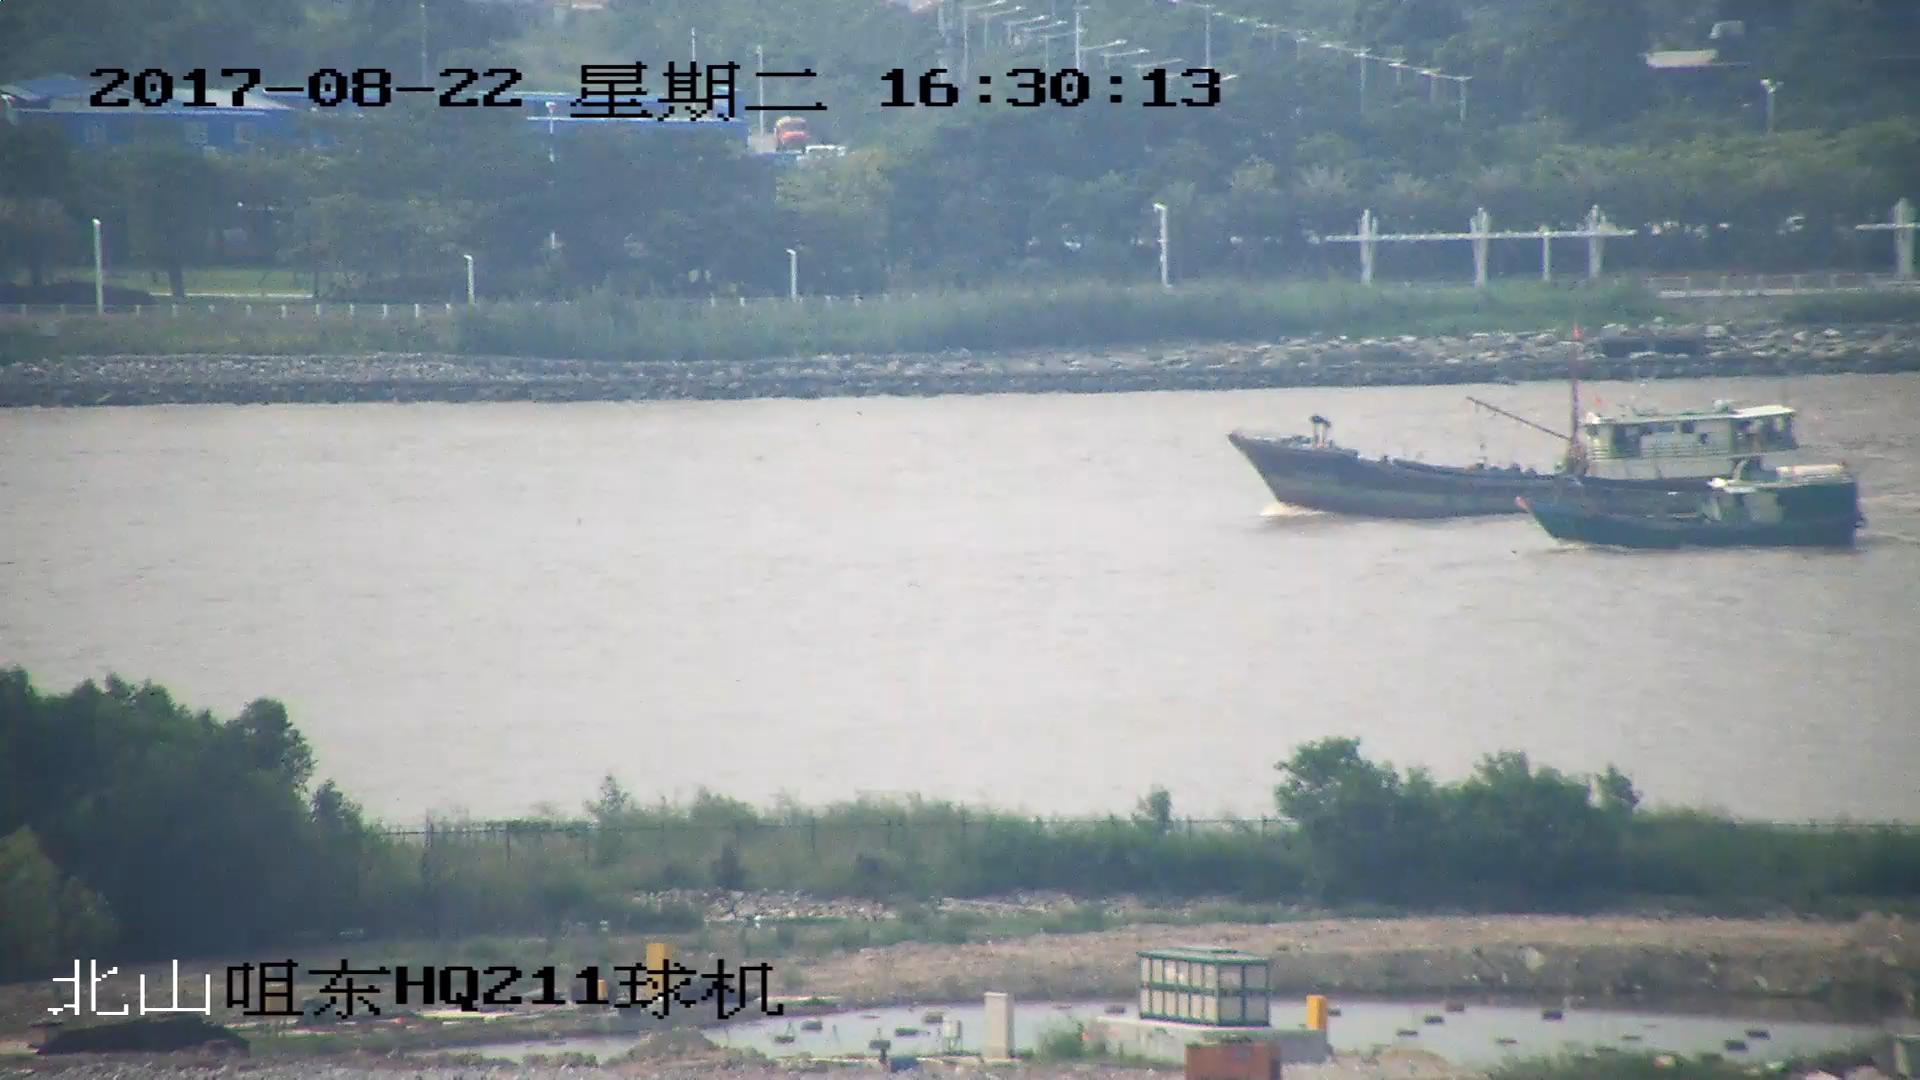fishing boat: (1227, 327, 1810, 516), (1514, 471, 1859, 550)
